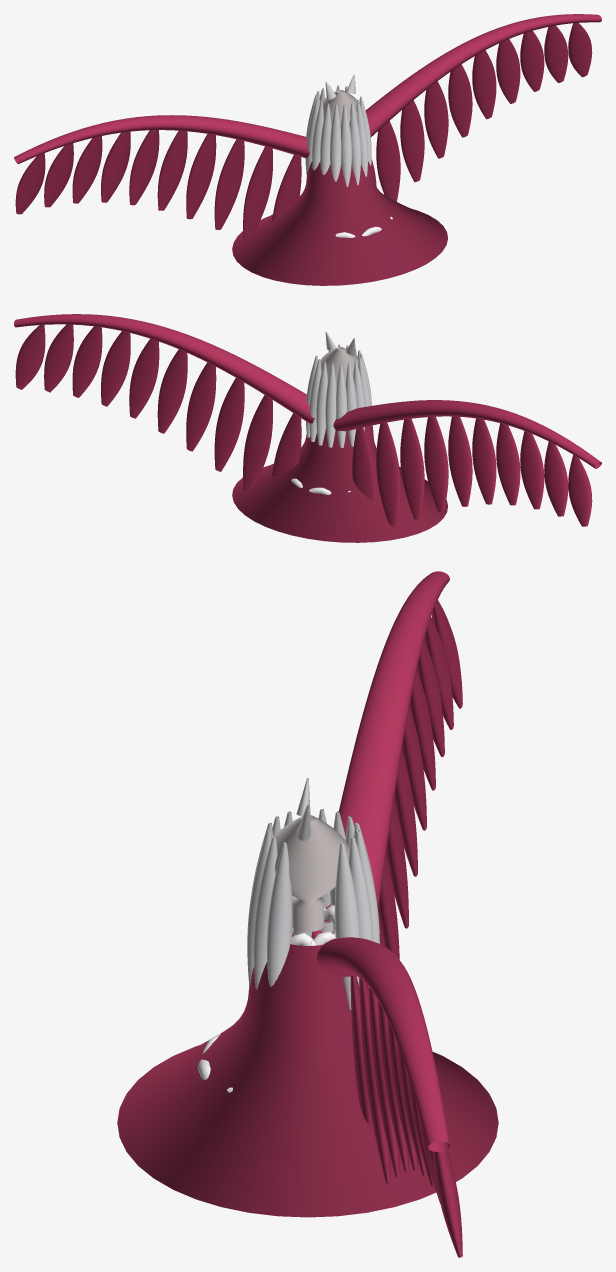
The model's file is dark_god_avatar.glb.
The picture shows the model from 3 angles, top to bottom: view 1: azimuth 30°, elevation 25°; view 2: azimuth 150°, elevation 25°; view 3: azimuth 270°, elevation 25°; orthographic projection. The views are drawn at different scales.
Parts seen in each view (by area): view 1: DarkGodWings12m, DarkGodMaidBodice, DarkGodWhiteHairAndEars, DarkGodSkinPVC; view 2: DarkGodWings12m, DarkGodMaidBodice, DarkGodWhiteHairAndEars, DarkGodSkinPVC; view 3: DarkGodMaidBodice, DarkGodWings12m, DarkGodWhiteHairAndEars, DarkGodSkinPVC, DarkGodWhiteLace.
Part boxes in pixels (x1,y1,x2,y2): DarkGodWings12m: (14,14,601,241); DarkGodMaidBodice: (232,160,447,285); DarkGodWhiteHairAndEars: (305,74,371,186); DarkGodSkinPVC: (319,90,357,125); DarkGodWings12m: (14,314,601,527); DarkGodMaidBodice: (232,425,447,542); DarkGodWhiteHairAndEars: (306,331,371,447); DarkGodSkinPVC: (320,347,358,384); DarkGodMaidBodice: (117,931,498,1217); DarkGodWings12m: (313,571,462,1257); DarkGodWhiteHairAndEars: (247,777,379,1009); DarkGodSkinPVC: (274,815,349,931); DarkGodWhiteLace: (198,905,335,1092).
Size of the model in its own units: 12.05 by 3.54 by 3.4.
